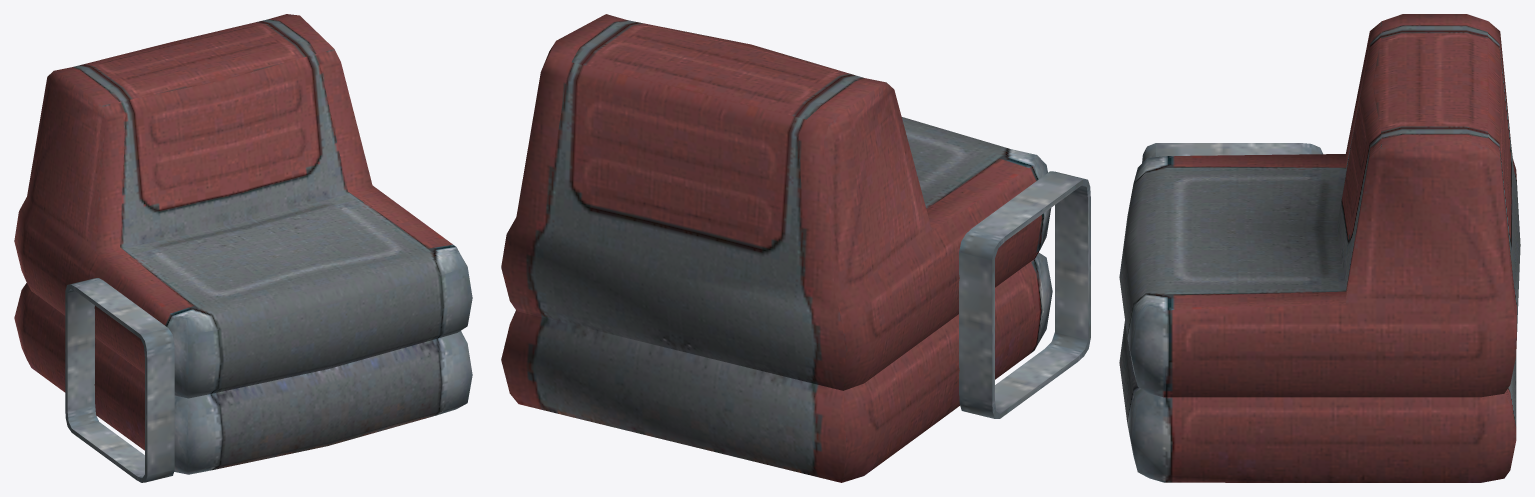
The model's file is frn_all_chair_upholstered_s1_l1.fbx.
The picture shows the model from 3 angles, left to right: view 1: azimuth 30°, elevation 25°; view 2: azimuth 150°, elevation 25°; view 3: azimuth 270°, elevation 25°; orthographic projection. The views are drawn at different scales.
Parts seen in each view (by area): view 1: mesh_node; view 2: mesh_node; view 3: mesh_node.
Boxes of the visible parts, <box> form: mesh_node: <box>14,14,472,482</box>; mesh_node: <box>501,14,1090,482</box>; mesh_node: <box>1119,14,1520,482</box>.
Size of the model in its own units: 0.8992 by 0.7625 by 0.8492.
Materials: 1 (1 with a texture image).
